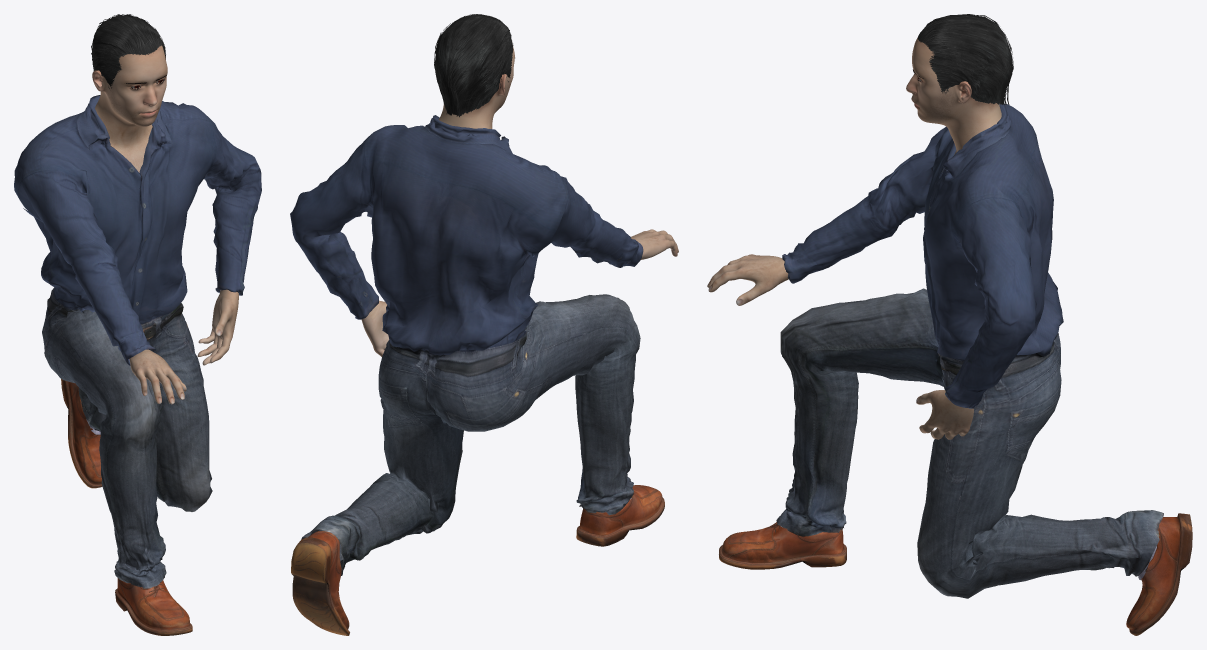
File: devotee.glb
The picture shows the model from 3 angles, left to right: view 1: azimuth 30°, elevation 25°; view 2: azimuth 150°, elevation 25°; view 3: azimuth 270°, elevation 25°; orthographic projection. The views are drawn at different scales.
Visible parts, largest first — view 1: male_casualsuit01, Avery | anatomical body, shoes01, short04; view 2: male_casualsuit01, shoes01, short04, Avery | anatomical body; view 3: male_casualsuit01, shoes01, Avery | anatomical body, short04.
Part boxes in pixels (x1=…): male_casualsuit01: x1=14, y1=95, x2=261, y2=588; Avery | anatomical body: x1=92, y1=45, x2=238, y2=404; shoes01: x1=61, y1=379, x2=192, y2=635; short04: x1=91, y1=14, x2=165, y2=88; male_casualsuit01: x1=290, y1=115, x2=643, y2=575; shoes01: x1=291, y1=485, x2=664, y2=635; short04: x1=434, y1=14, x2=513, y2=117; Avery | anatomical body: x1=361, y1=46, x2=678, y2=356; male_casualsuit01: x1=776, y1=103, x2=1163, y2=598; shoes01: x1=719, y1=513, x2=1192, y2=635; Avery | anatomical body: x1=707, y1=37, x2=1001, y2=439; short04: x1=918, y1=14, x2=1013, y2=104.
Size of the model in its own units: 0.6706 by 1.38 by 1.03.
9 materials, 9 textured.
